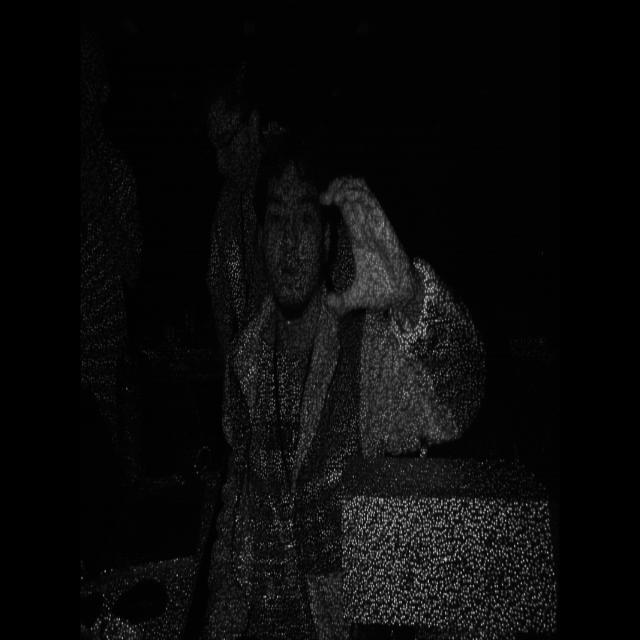C: (303, 160, 425, 353)
